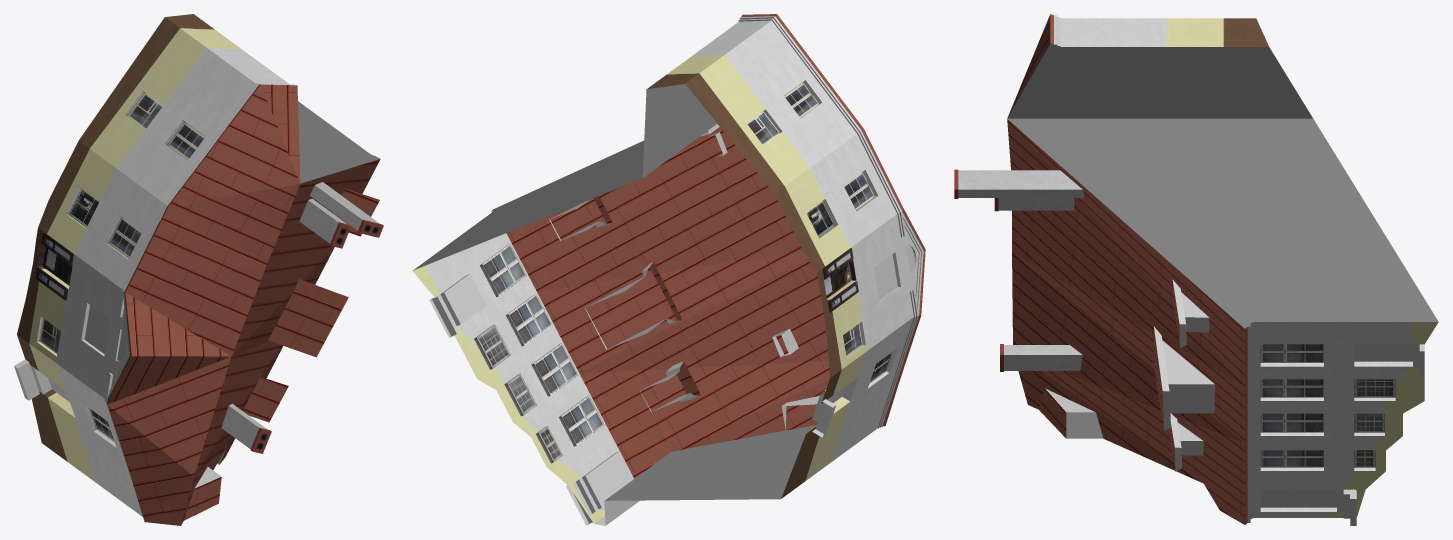
File: Pikk_jalg_7.obj
3 views of the same model, side by side, from view 1: azimuth 30°, elevation 25°; view 2: azimuth 150°, elevation 25°; view 3: azimuth 270°, elevation 25° (orthographic). The views are drawn at different scales.
Parts seen in each view (by area): view 1: Pikk_jalg_7; view 2: Pikk_jalg_7; view 3: Pikk_jalg_7.
Boxes of the visible parts, x1,y1,x2,y2 form: Pikk_jalg_7: [14, 14, 383, 525]; Pikk_jalg_7: [412, 14, 925, 525]; Pikk_jalg_7: [954, 14, 1438, 525].
Bounding box in the file's own units: 14.99 × 17.79 × 16.21.
